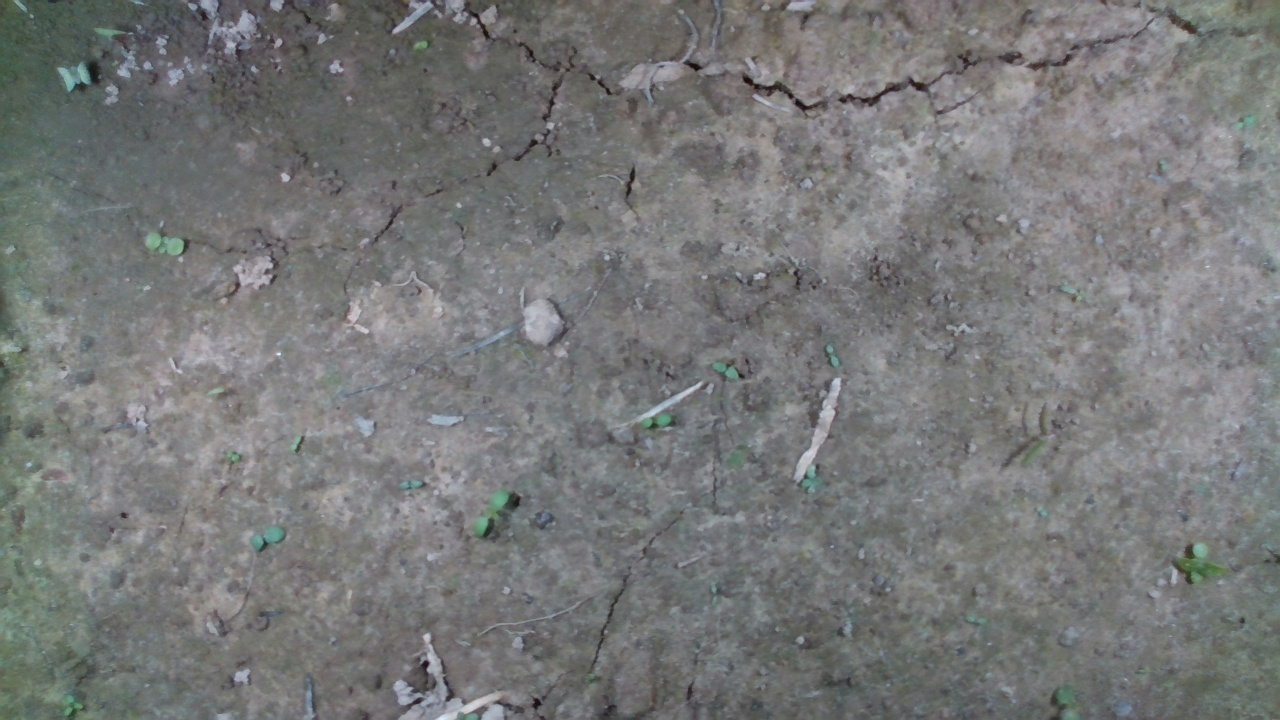weed: (1019, 398, 1054, 468), (472, 488, 512, 539), (141, 231, 186, 256), (248, 525, 288, 552), (638, 411, 673, 429), (711, 360, 740, 380), (62, 693, 84, 719), (823, 342, 841, 368), (395, 478, 425, 491), (289, 431, 303, 453), (224, 449, 240, 462)
